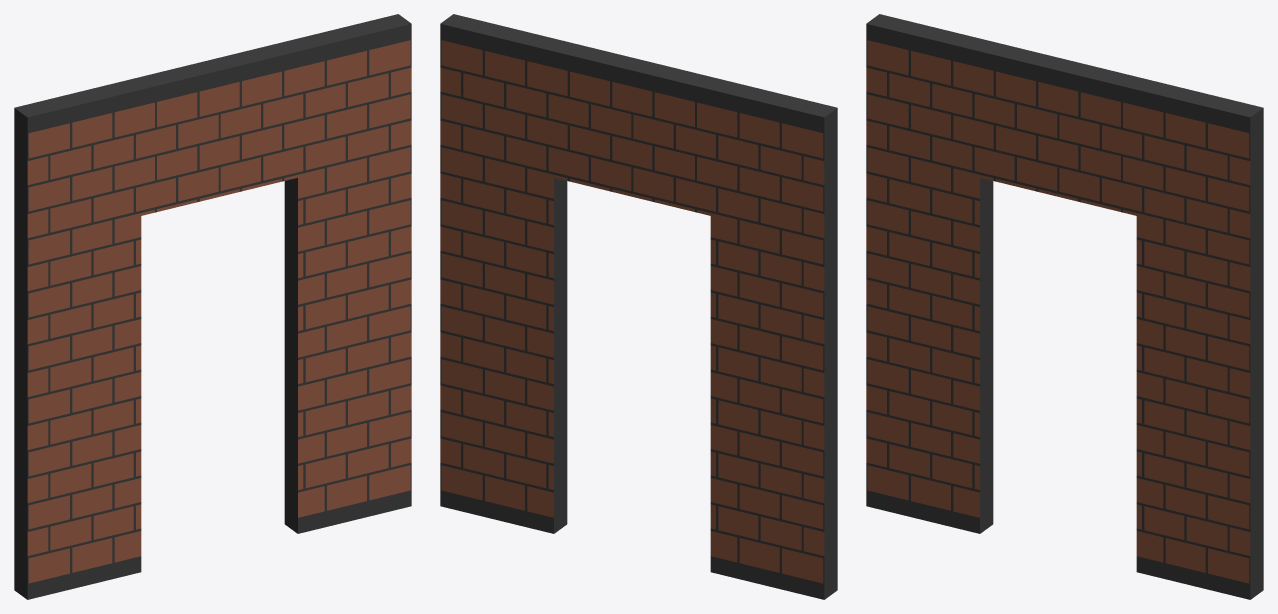
File: Wall2_C10_17.fbx
3 views of the same model, side by side, from view 1: azimuth 30°, elevation 25°; view 2: azimuth 150°, elevation 25°; view 3: azimuth 330°, elevation 25° (orthographic).
Visible parts, largest first — view 1: Wall2_C10_17; view 2: Wall2_C10_17; view 3: Wall2_C10_17.
Boxes of the visible parts, x1,y1,x2,y2 form: Wall2_C10_17: (14,14,411,599); Wall2_C10_17: (440,14,837,599); Wall2_C10_17: (866,14,1263,599).
Bounding box in the file's own units: 250 × 300 × 15.
